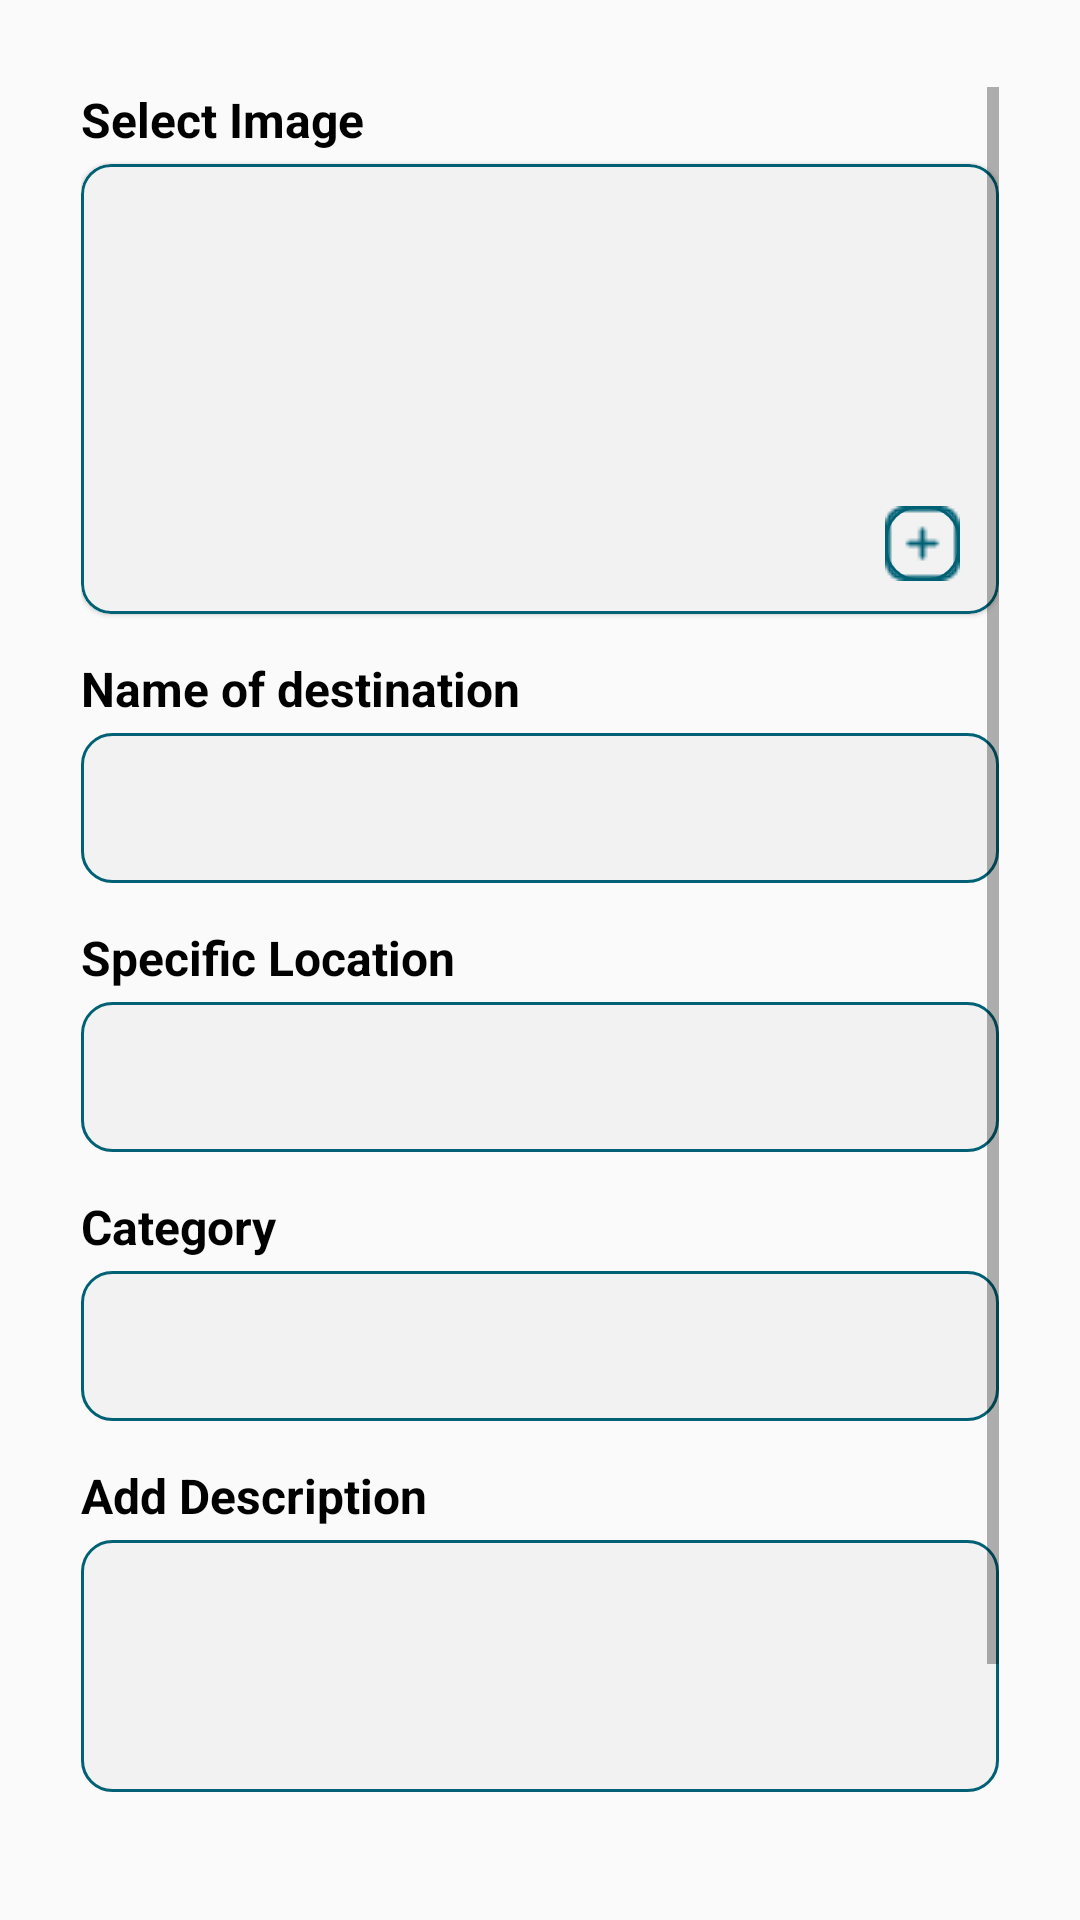

Named icons in this screenshot (1080×1920) and their bounding boxes, bbox=(x1, y1, x2, y2):
add shape: bbox=(885, 506, 960, 581)
